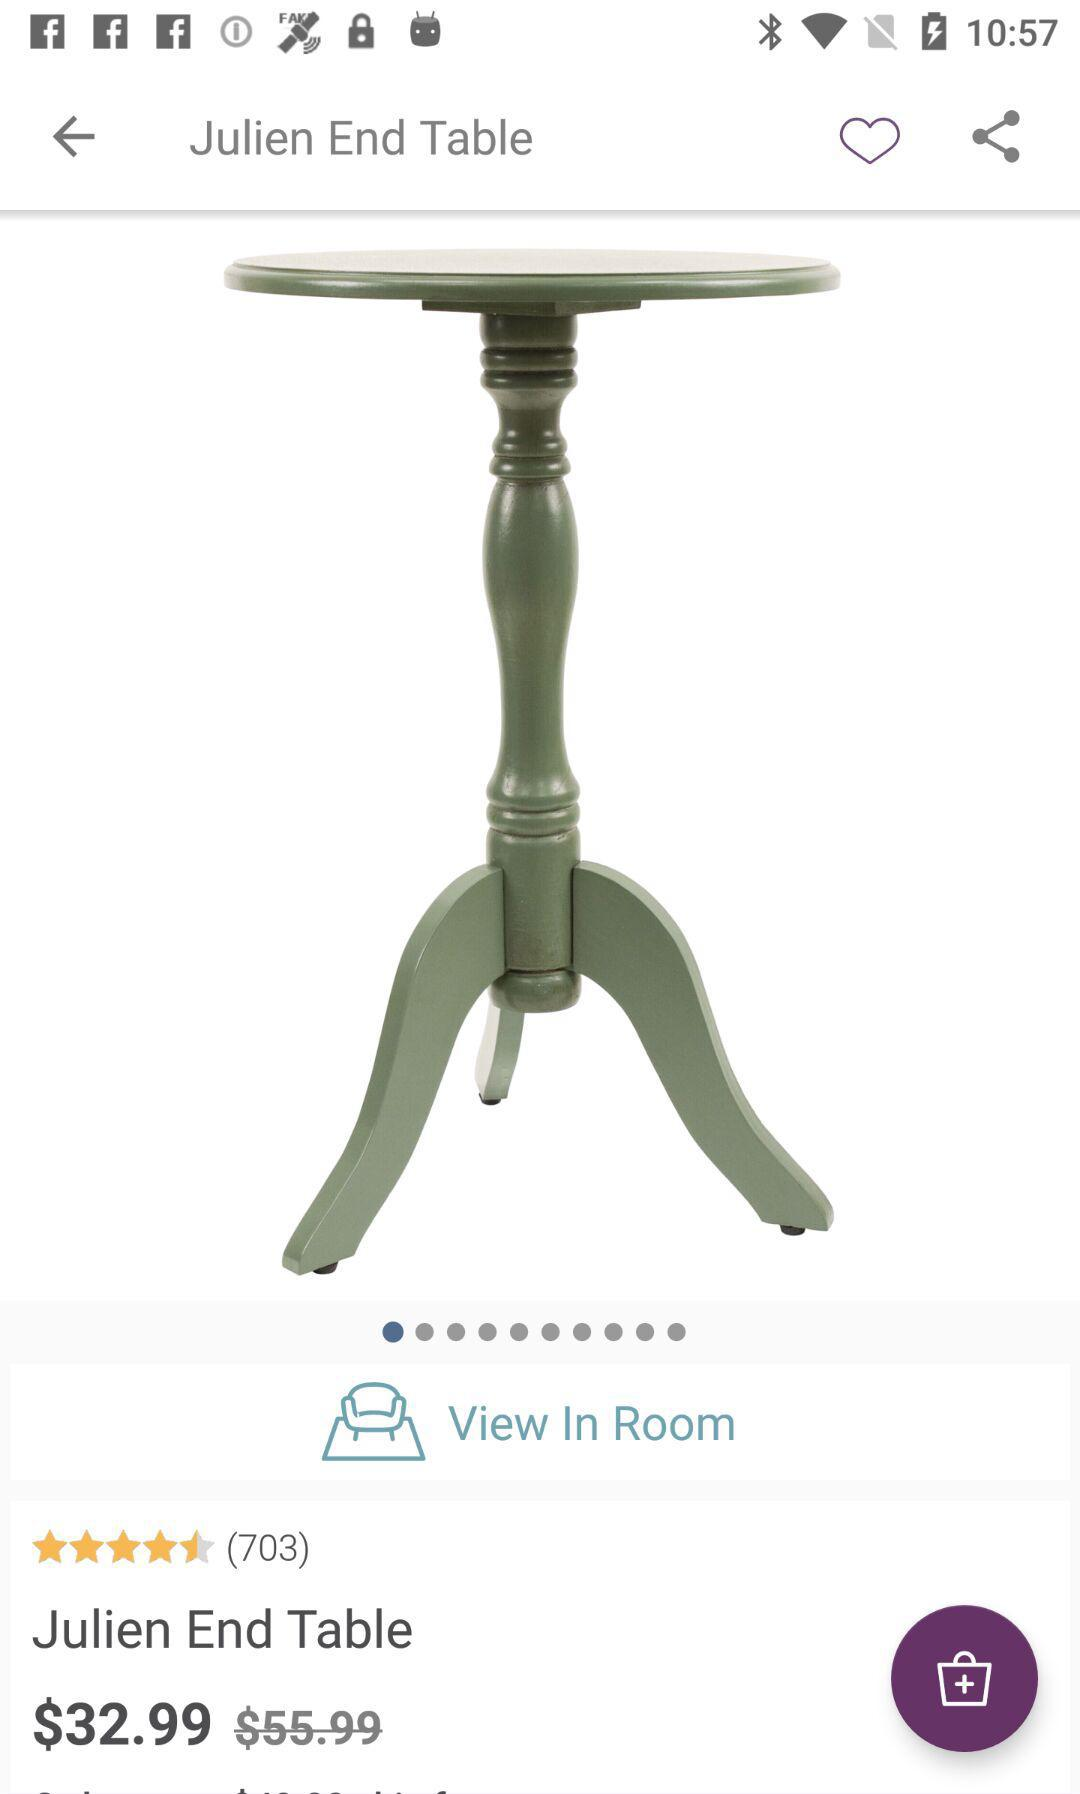Icon: (890, 1604, 1039, 1753), (32, 1527, 217, 1565), (839, 117, 901, 167), (971, 110, 1020, 165), (53, 115, 97, 159)
Image: (223, 249, 842, 1278), (322, 1381, 427, 1462)
PageIndicator: (380, 1320, 687, 1344)
Text: (32, 1607, 413, 1649), (190, 118, 534, 158), (448, 1404, 735, 1442), (35, 1697, 211, 1750), (234, 1704, 384, 1750), (227, 1530, 310, 1571)
Toolbar: (3, 76, 1080, 211)
UpperTaskBar: (1, 1, 1080, 58)
